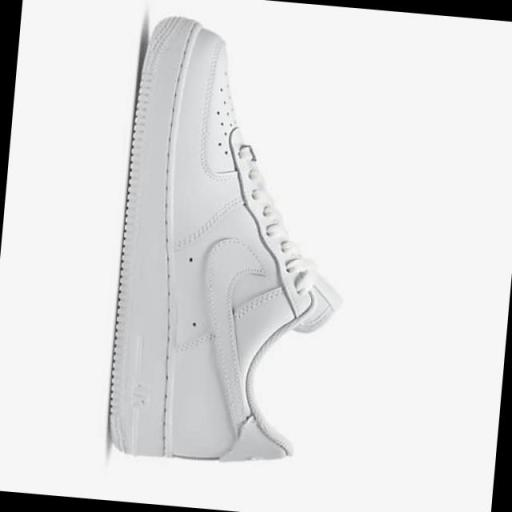Nike: (184, 230, 274, 449)
